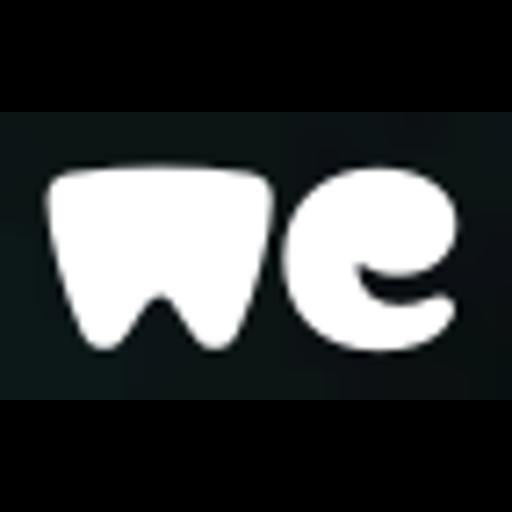WeTransfer: (0, 112, 512, 400)
